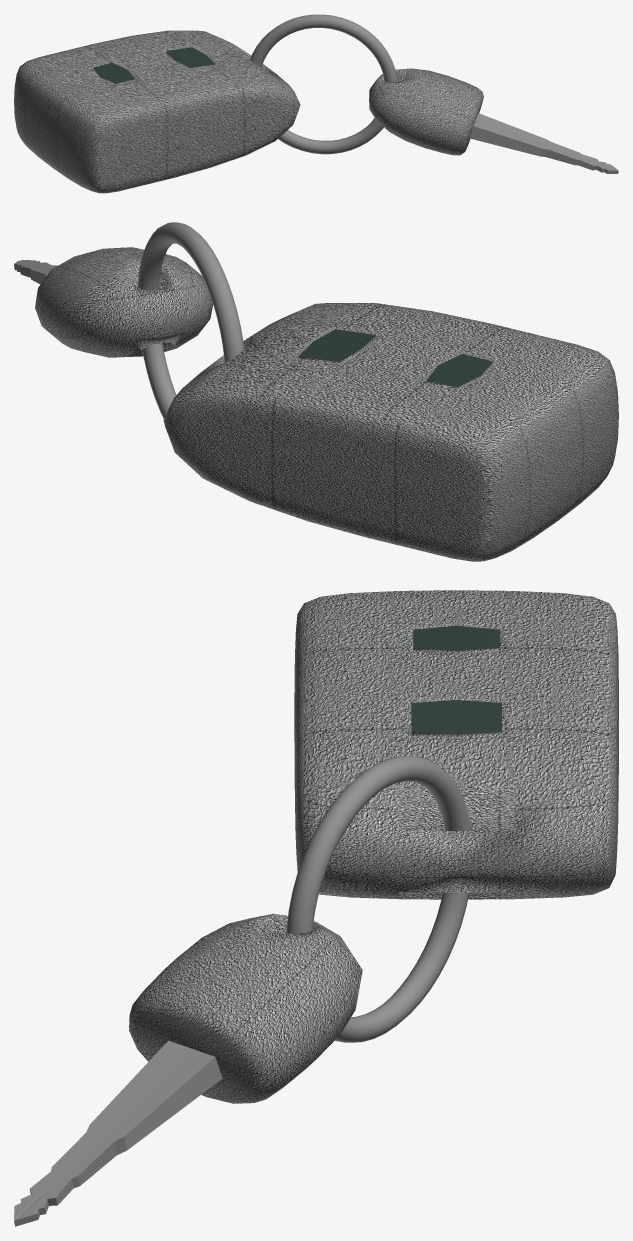
Rendered from Key.fbx.
The picture shows the model from 3 angles, top to bottom: view 1: azimuth 30°, elevation 25°; view 2: azimuth 150°, elevation 25°; view 3: azimuth 270°, elevation 25°; orthographic projection. The views are drawn at different scales.
Visible parts, largest first — view 1: Dongle, Key black, keyring, Key metal, Buttons; view 2: Dongle, Key black, keyring, Buttons, Key metal; view 3: Dongle, Key black, keyring, Key metal, Buttons.
Part boxes in pixels (left/top/right/bottom): Dongle: left=14, top=30, right=300, bottom=193; Key black: left=369, top=68, right=483, bottom=155; keyring: left=250, top=14, right=397, bottom=154; Key metal: left=469, top=113, right=618, bottom=173; Buttons: left=93, top=47, right=215, bottom=83; Dongle: left=163, top=303, right=618, bottom=561; Key black: left=35, top=247, right=213, bottom=357; keyring: left=137, top=222, right=244, bottom=418; Buttons: left=299, top=329, right=492, bottom=387; Key metal: left=14, top=260, right=57, bottom=284; Dongle: left=294, top=590, right=618, bottom=899; Key black: left=129, top=913, right=362, bottom=1103; keyring: left=286, top=755, right=471, bottom=1042; Key metal: left=14, top=1040, right=222, bottom=1226; Buttons: left=411, top=625, right=501, bottom=734.
Size of the model in its own units: 549 by 159 by 323.
3 materials, 1 textured.
